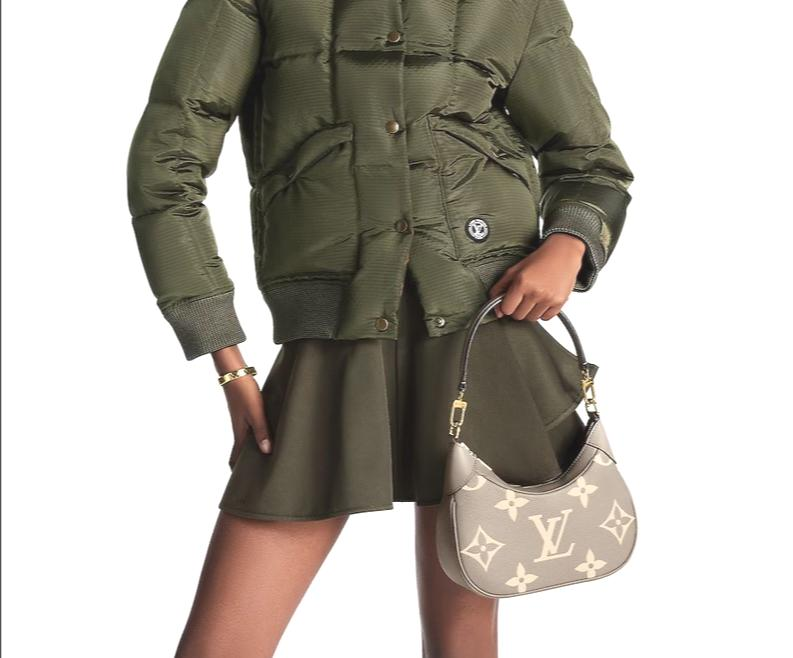LOUIS-VUITTON: (448, 463, 644, 595)
